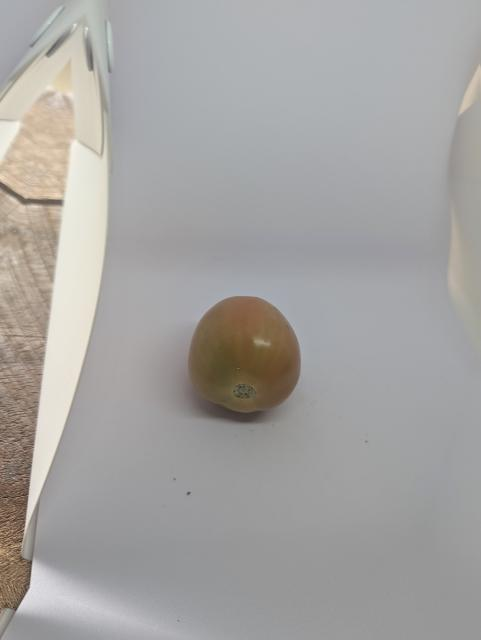turning: (178, 287, 311, 423)
